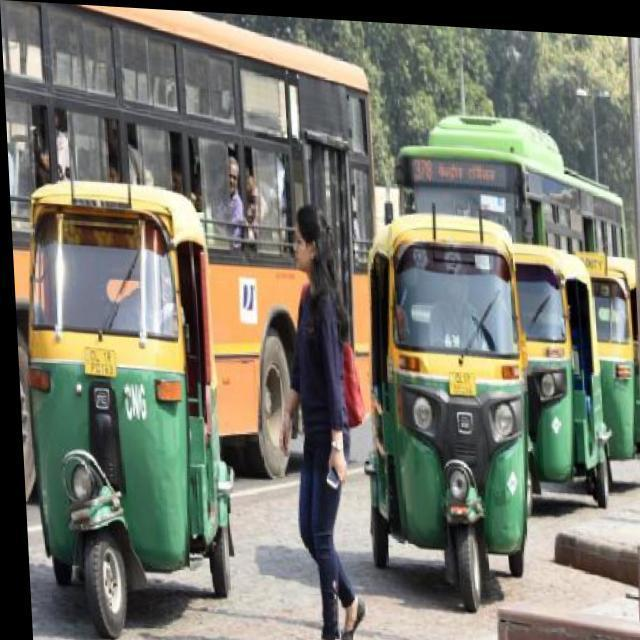Bus: (4, 2, 380, 216), (405, 134, 639, 232)
